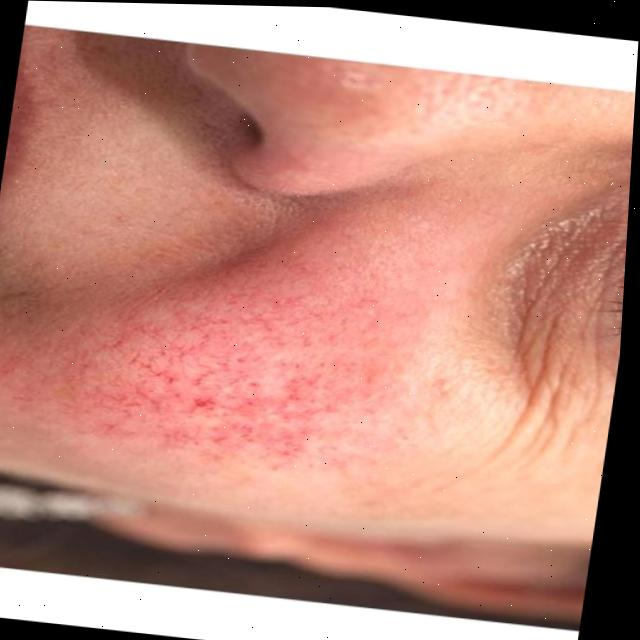Rosacea: (57, 264, 373, 501)
